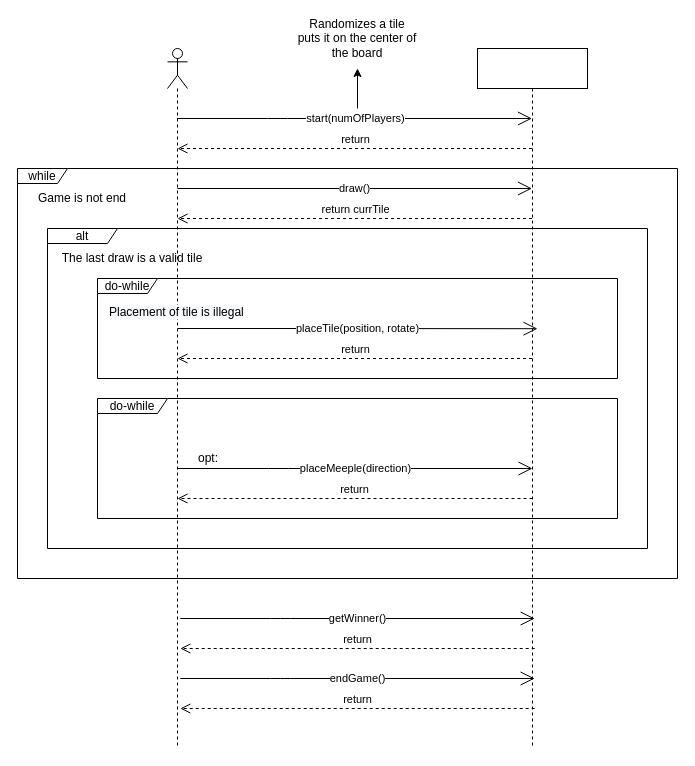
Image size: 695x766. Some labels were removed from this diagram. Each missing label, with the box of its shape:
GameManagement: (476, 48, 588, 748)
Placement of meeple is illegal: (166, 48, 188, 748)
